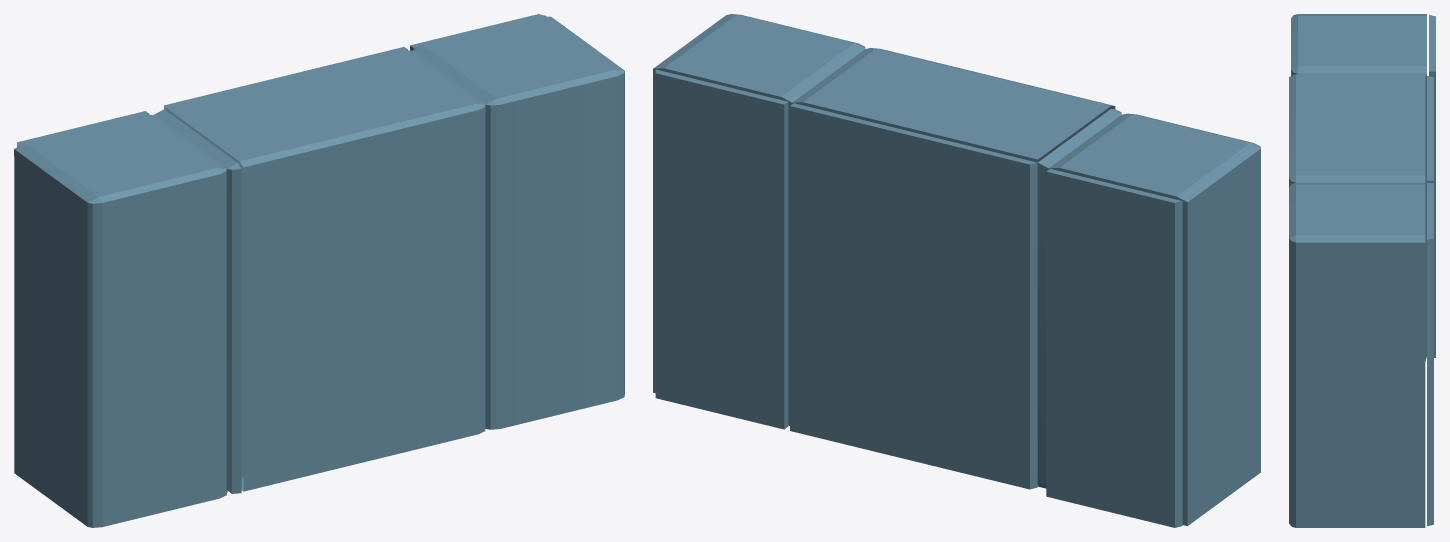
File: Prop_bath_mirrorc1.FBX
3 renders of one model, left to right at view 1: azimuth 30°, elevation 25°; view 2: azimuth 150°, elevation 25°; view 3: azimuth 270°, elevation 25°, orthographic. The views are drawn at different scales.
Visible parts, largest first — view 1: WCSink_012, WCSink_011, WCSink_013, WCSink_015; view 2: WCSink_015, WCSink_014, WCSink_016, WCSink_011, WCSink_012, WCSink_013; view 3: WCSink_013, WCSink_012, WCSink_011, WCSink_016, WCSink_014, WCSink_015.
Boxes of the visible parts, left/top/right/bottom form: WCSink_012: left=154, top=50, right=485, bottom=493; WCSink_011: left=14, top=114, right=227, bottom=527; WCSink_013: left=412, top=16, right=624, bottom=429; WCSink_015: left=164, top=47, right=408, bottom=171; WCSink_015: left=790, top=103, right=1037, bottom=489; WCSink_014: left=1046, top=169, right=1182, bottom=527; WCSink_016: left=655, top=69, right=788, bottom=429; WCSink_011: left=1048, top=113, right=1260, bottom=525; WCSink_012: left=792, top=48, right=1121, bottom=488; WCSink_013: left=653, top=14, right=865, bottom=425; WCSink_013: left=1289, top=182, right=1425, bottom=527; WCSink_012: left=1289, top=73, right=1426, bottom=361; WCSink_011: left=1291, top=14, right=1426, bottom=84; WCSink_016: left=1427, top=183, right=1433, bottom=526; WCSink_014: left=1429, top=15, right=1435, bottom=357; WCSink_015: left=1427, top=75, right=1433, bottom=182.
Size of the model in its own units: 58.51 by 15.78 by 34.35.
